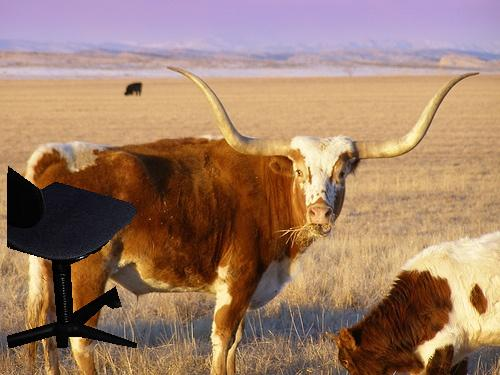tampered: (8, 167, 137, 348)
